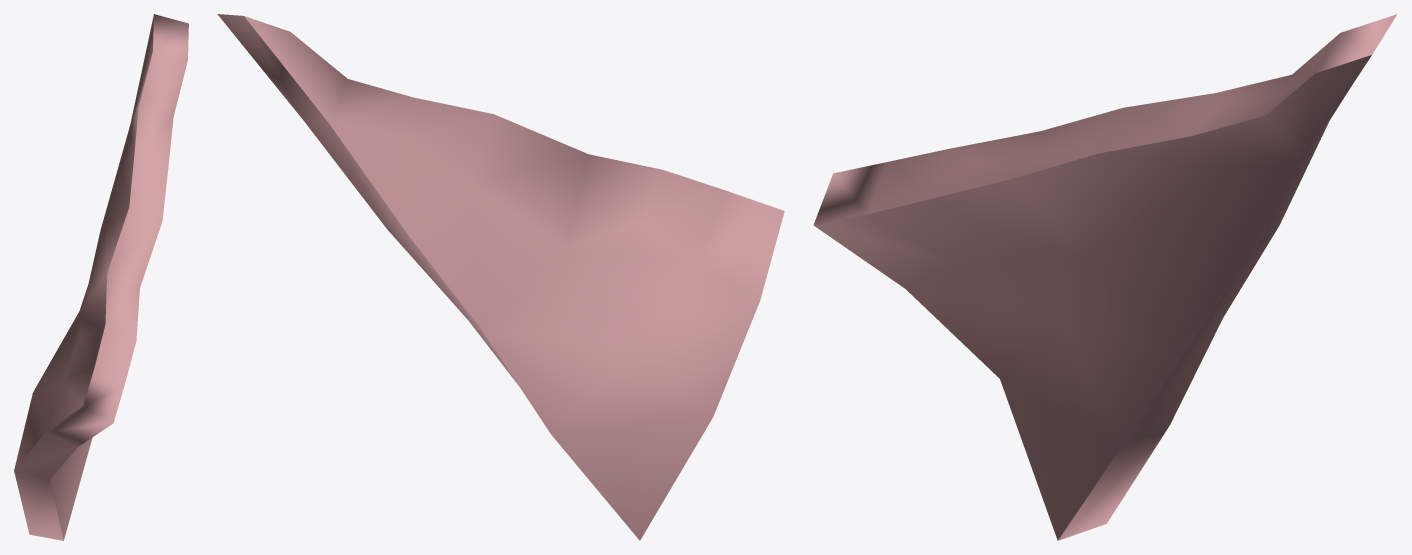
3 views of the same model, side by side, from view 1: azimuth 30°, elevation 25°; view 2: azimuth 150°, elevation 25°; view 3: azimuth 270°, elevation 25° (orthographic). The views are drawn at different scales.
Visible parts, largest first — view 1: ZA_7320634f59c453c0; view 2: ZA_7320634f59c453c0; view 3: ZA_7320634f59c453c0.
Part boxes in pixels (<box>): ZA_7320634f59c453c0: <box>14,14,188,540</box>; ZA_7320634f59c453c0: <box>217,14,784,540</box>; ZA_7320634f59c453c0: <box>813,14,1397,540</box>.
Size of the model in its own units: 0.0258 by 0.0363 by 0.0281.
